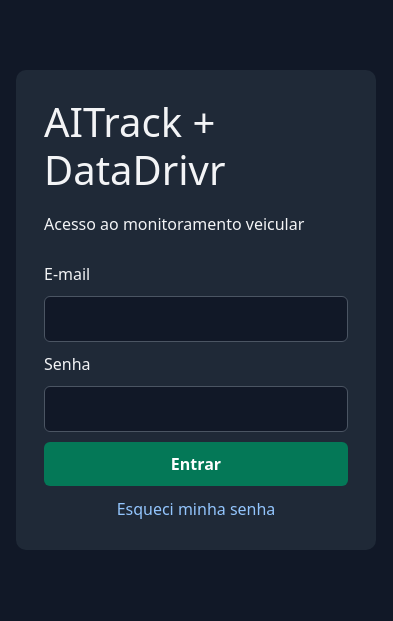
Test: exige login e não diferencia recuperação de conta
expect the heading "AITrack + DataDrivr" is shown: met, box x1=44 y1=94 x2=225 y2=197
Type "x@example.test" into the field labelled "E-mail" at [196, 319], box x1=44 y1=296 x2=348 y2=342
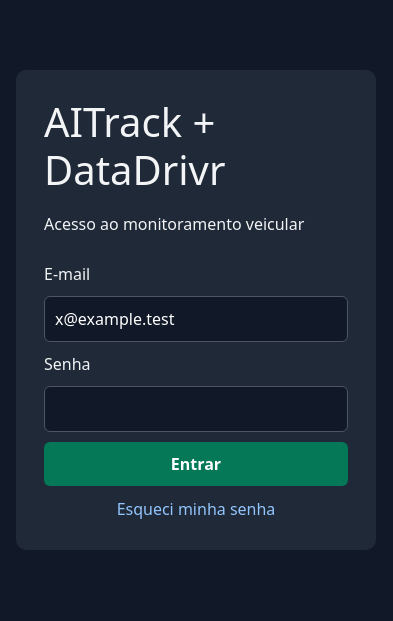
Type "errada" into the password field labelled "Senha" at [196, 409], box x1=44 y1=386 x2=348 y2=432
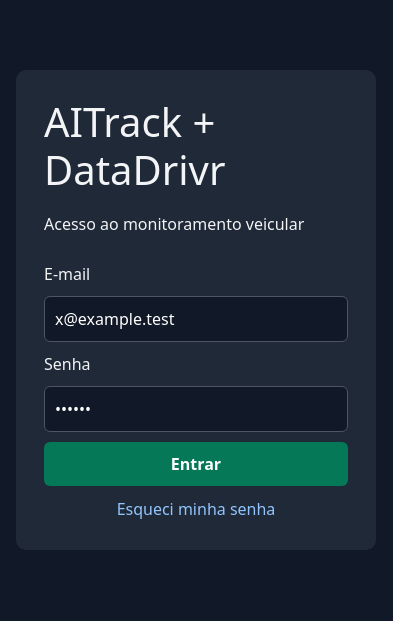
Click the button "Entrar" at [196, 464], box x1=44 y1=442 x2=348 y2=486
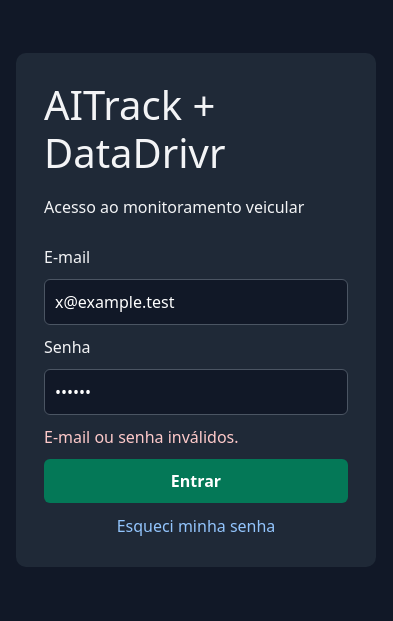
expect the message shows "E-mail ou senha inválidos": met, box x1=44 y1=426 x2=239 y2=448
Click the button "Esqueci minha senha" at [196, 526], box x1=44 y1=513 x2=348 y2=539
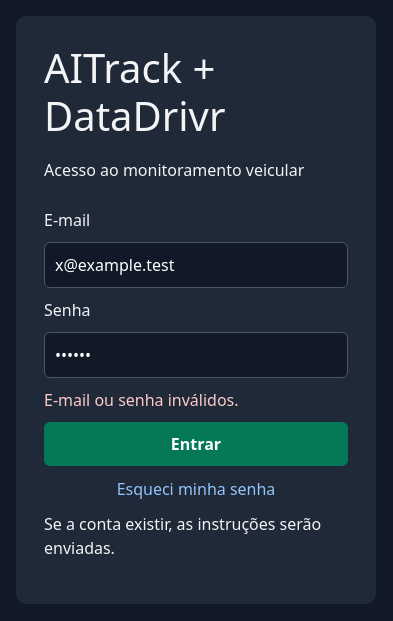
expect the message "Se a conta existir, as instruções serão enviadas." is shown: met, box x1=44 y1=512 x2=348 y2=560
